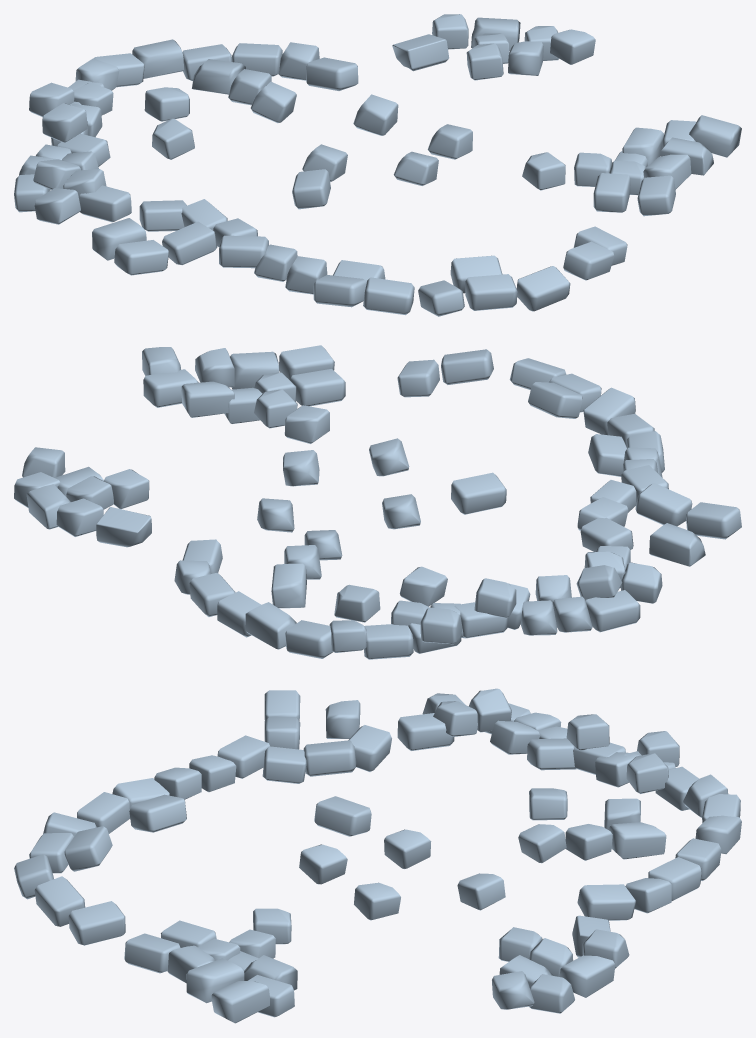
The model's file is Floor_Rock_Pile_03C_Lod0.fbx.
3 renders of one model, top to bottom at view 1: azimuth 30°, elevation 25°; view 2: azimuth 150°, elevation 25°; view 3: azimuth 270°, elevation 25°, orthographic. The views are drawn at different scales.
Parts seen in each view (by area): view 1: Floor_Rock_Pile_03C_Lod0; view 2: Floor_Rock_Pile_03C_Lod0; view 3: Floor_Rock_Pile_03C_Lod0.
Part boxes in pixels (bbox=[...]): Floor_Rock_Pile_03C_Lod0: bbox=[14, 14, 741, 316]; Floor_Rock_Pile_03C_Lod0: bbox=[14, 345, 741, 659]; Floor_Rock_Pile_03C_Lod0: bbox=[14, 688, 741, 1023].
Size of the model in its own units: 756 by 70.64 by 742.
